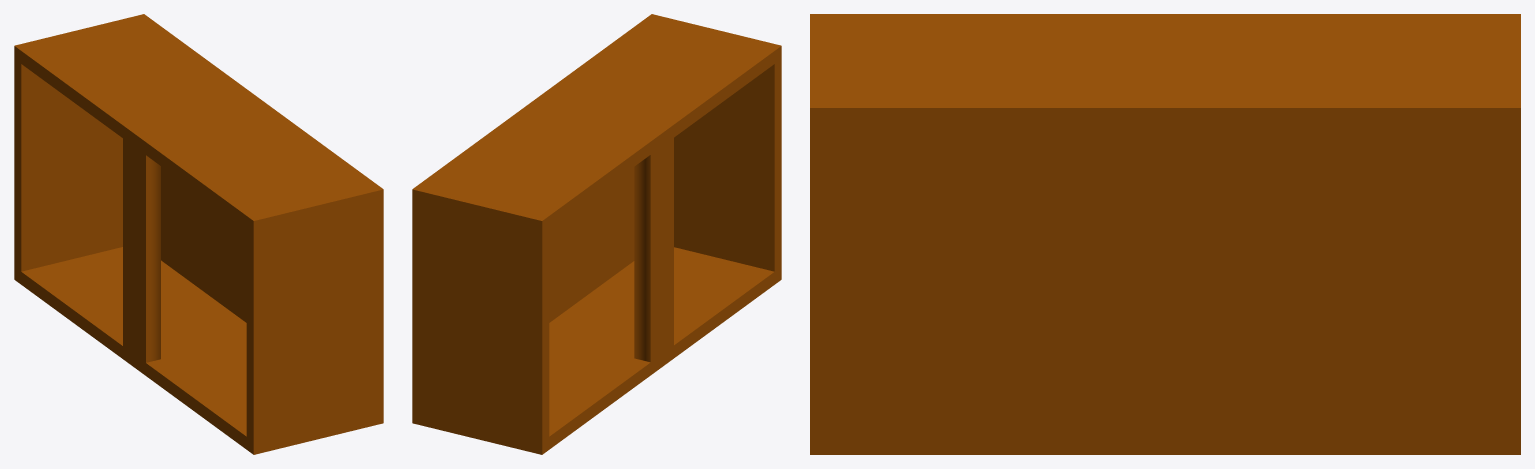
Rendered from Buffet.fbx.
3 renders of one model, left to right at view 1: azimuth 30°, elevation 25°; view 2: azimuth 150°, elevation 25°; view 3: azimuth 270°, elevation 25°, orthographic. The views are drawn at different scales.
Visible parts, largest first — view 1: Buffet; view 2: Buffet; view 3: Buffet.
Boxes of the visible parts, x1,y1,x2,y2 form: Buffet: (14, 14, 383, 454); Buffet: (412, 14, 781, 454); Buffet: (810, 14, 1520, 454).
Bounding box in the file's own units: 72.29 × 124 × 231.
